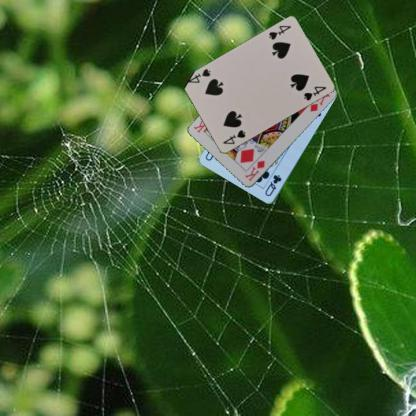4s: (265, 23, 292, 42), (220, 128, 247, 146)
Kd: (243, 158, 266, 182)
Qc: (262, 172, 283, 198)
